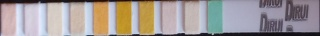color 1: (2, 6, 14, 34)
color 10: (209, 2, 221, 30)
color 2: (26, 7, 37, 34)
color 3: (49, 5, 60, 34)
color 4: (72, 5, 83, 34)
color 5: (95, 4, 106, 34)
color 6: (117, 3, 130, 33)
color 7: (140, 3, 152, 33)
color 8: (163, 4, 174, 32)
color 9: (186, 4, 197, 32)
